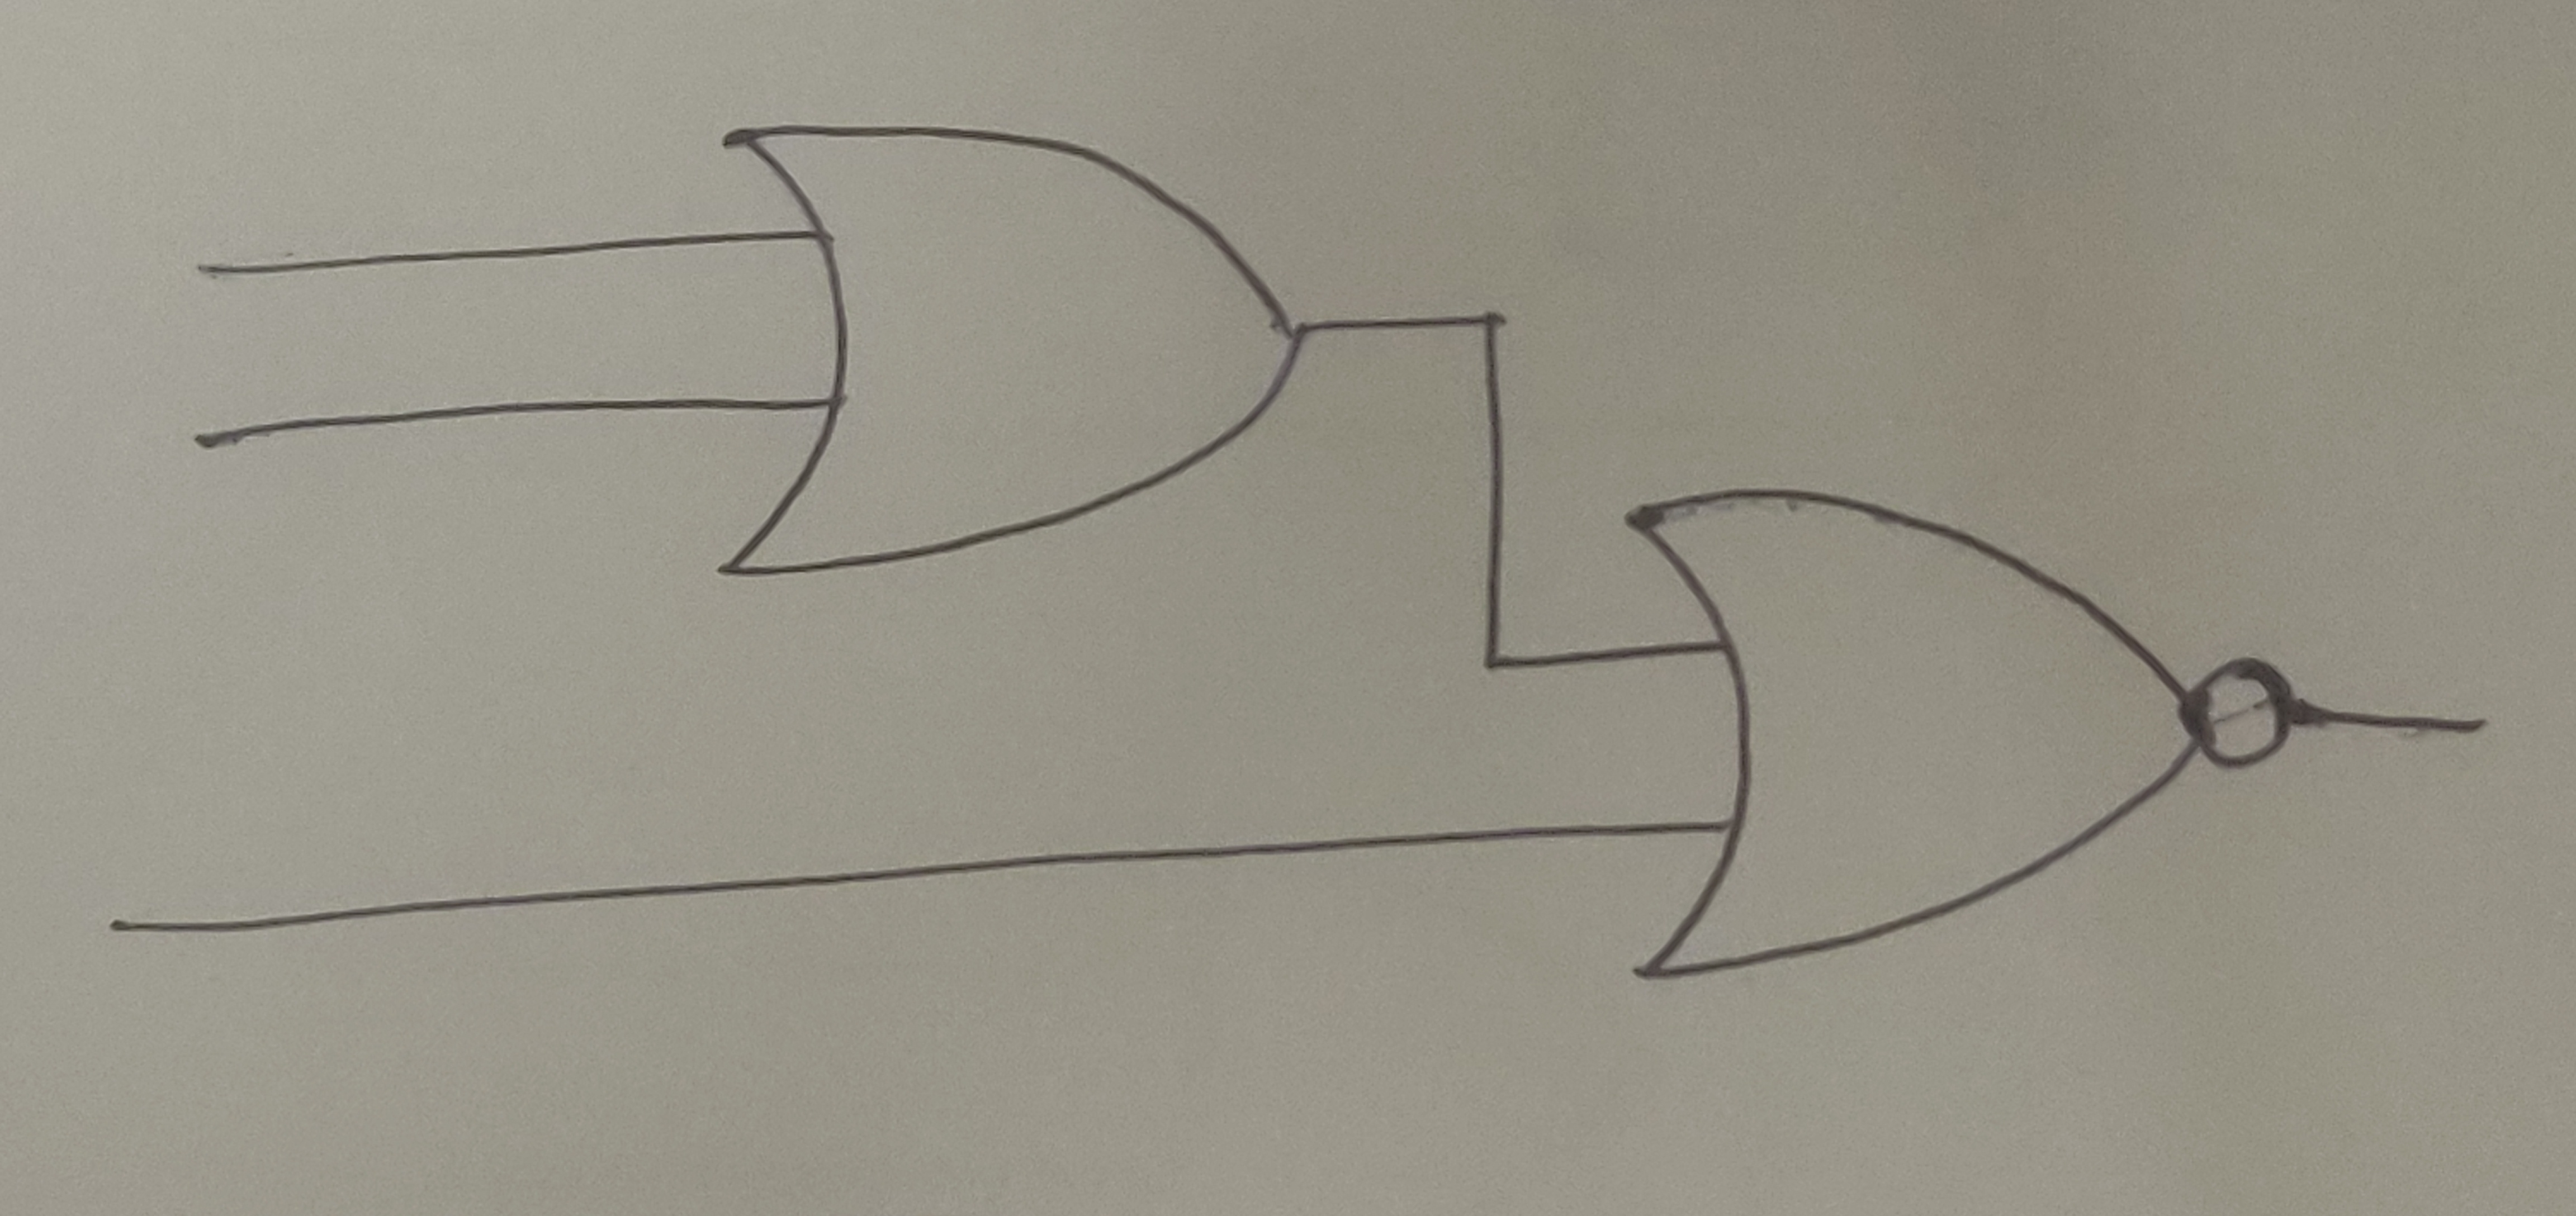not: (2178, 651, 2320, 776)
or: (1620, 493, 2205, 993), (713, 122, 1311, 575)
